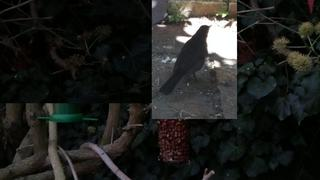blackbird: (159, 24, 213, 95)
